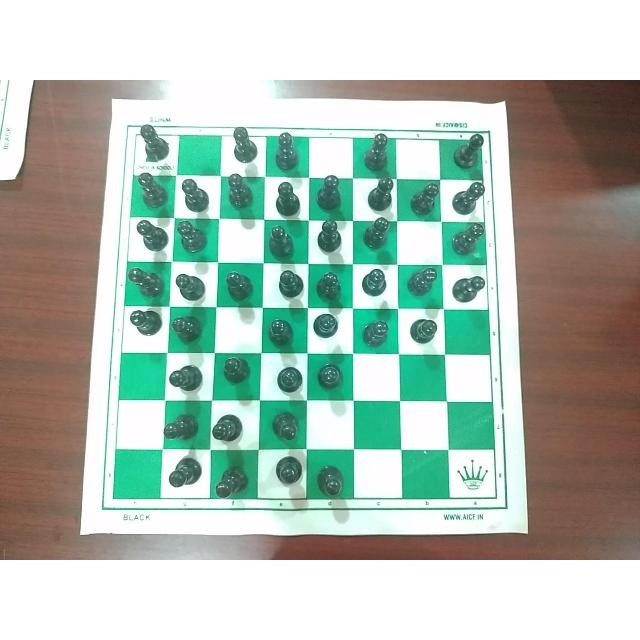black-pawn: (309, 214, 346, 258), (125, 263, 165, 303), (176, 171, 212, 215), (361, 129, 396, 173), (453, 131, 491, 171), (173, 215, 211, 255), (168, 455, 206, 495), (134, 121, 170, 163), (450, 179, 486, 220), (271, 125, 303, 171), (220, 265, 256, 305), (449, 270, 489, 306), (225, 121, 259, 163), (270, 452, 307, 490), (312, 173, 348, 212), (132, 218, 170, 254), (165, 357, 203, 393), (163, 410, 201, 446), (453, 221, 488, 260), (267, 403, 302, 442), (222, 168, 253, 212), (315, 361, 349, 401), (314, 265, 346, 307), (264, 218, 296, 259), (172, 268, 208, 304), (354, 263, 390, 299), (168, 310, 204, 346), (315, 461, 351, 497), (211, 409, 245, 447), (215, 462, 247, 502), (133, 169, 167, 206), (125, 308, 163, 340), (311, 306, 342, 345), (217, 354, 251, 388), (273, 180, 305, 216), (407, 263, 439, 299), (360, 314, 392, 350), (408, 314, 440, 350), (363, 215, 394, 251), (362, 177, 395, 210), (410, 183, 442, 216), (275, 265, 306, 299), (274, 363, 308, 394), (267, 316, 296, 346)
